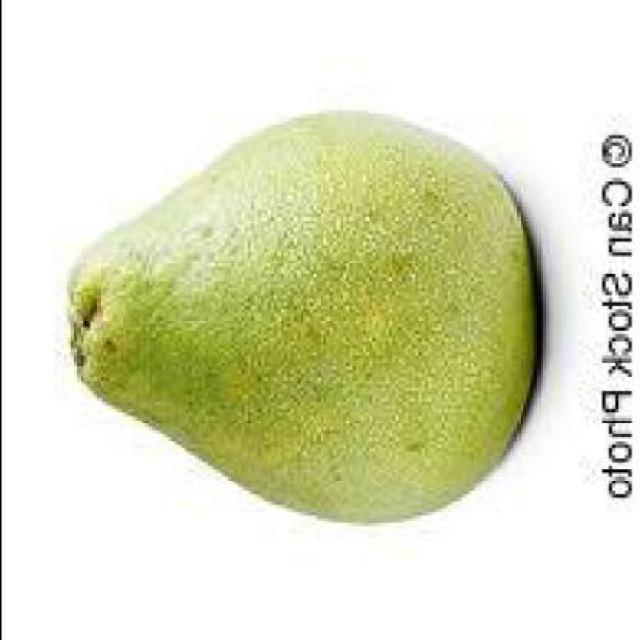BIODEGRADABLE: (62, 104, 542, 522)
